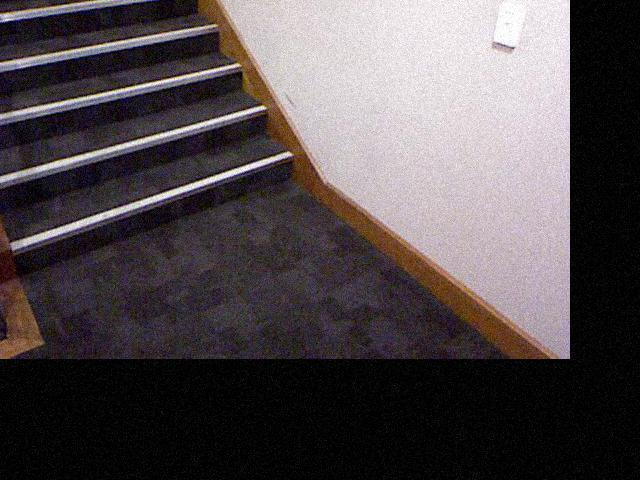Escaleras: (0, 0, 311, 266), (0, 254, 5, 358)
